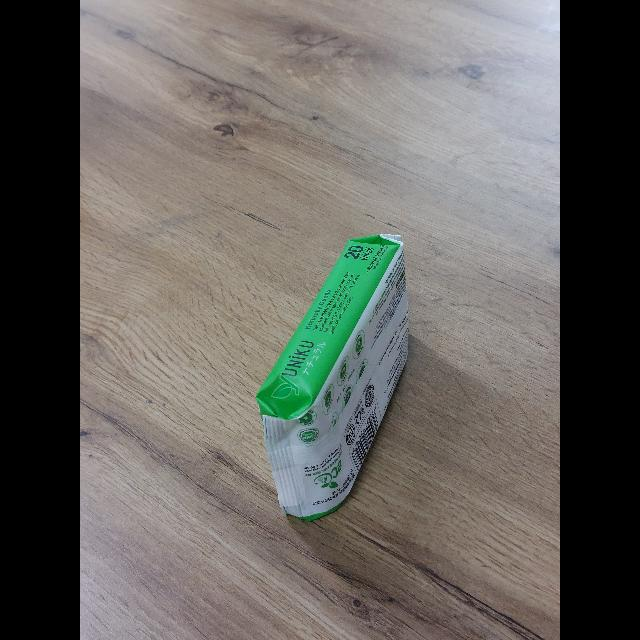khan_giay: (256, 234, 408, 520)
